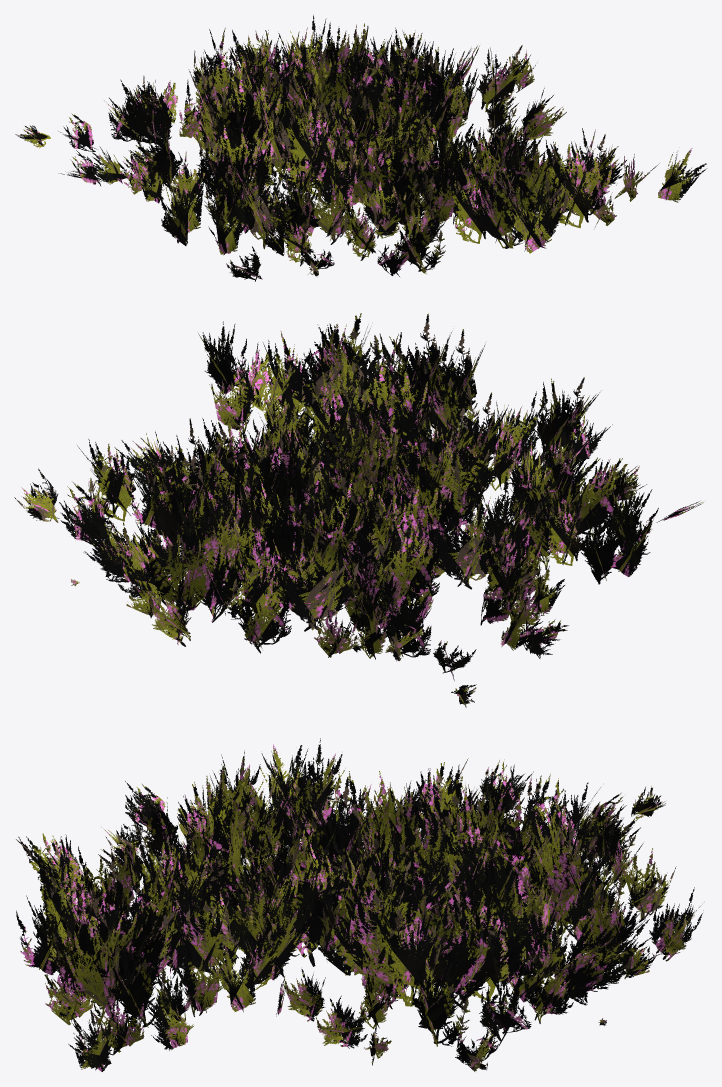
File: heather_clump_03_LOD1.fbx
The picture shows the model from 3 angles, top to bottom: view 1: azimuth 30°, elevation 25°; view 2: azimuth 150°, elevation 25°; view 3: azimuth 270°, elevation 25°; orthographic projection. The views are drawn at different scales.
Parts seen in each view (by area): view 1: heather_clump_03_LOD1; view 2: heather_clump_03_LOD1; view 3: heather_clump_03_LOD1.
Part boxes in pixels (x1,y1,x2,y2): heather_clump_03_LOD1: [15, 15, 706, 281]; heather_clump_03_LOD1: [14, 313, 703, 707]; heather_clump_03_LOD1: [16, 738, 703, 1071].
Bounding box in the file's own units: 972 × 219 × 979.
